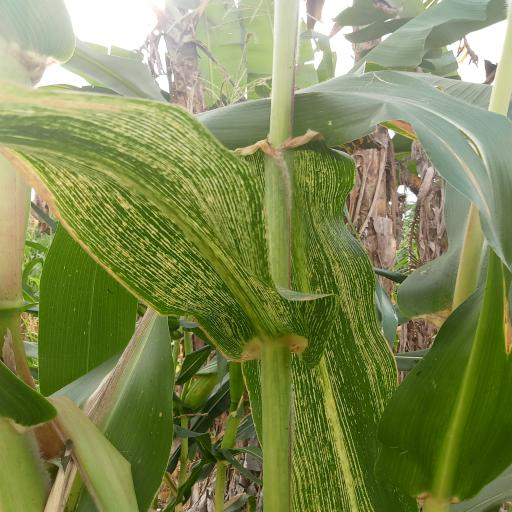Corn_Streak: (0, 84, 325, 356), (244, 143, 408, 512)
